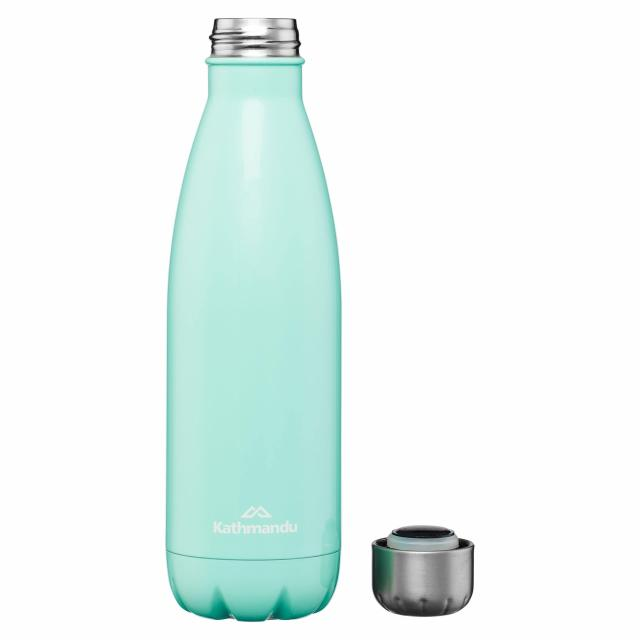metel: (170, 14, 343, 626)
